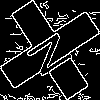N: (25, 25, 83, 80)
